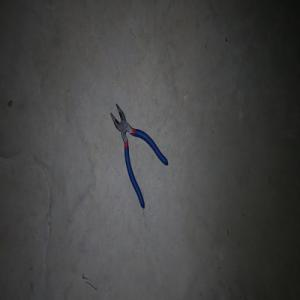Pliers: (109, 102, 168, 210)
